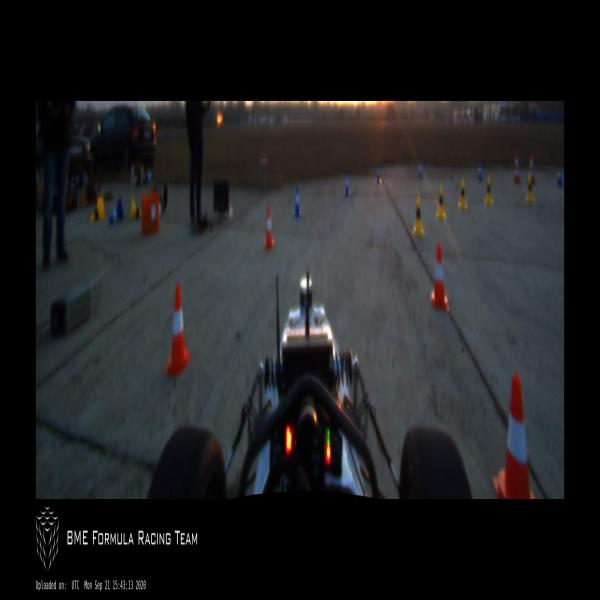blue_cone: (108, 196, 124, 224), (294, 186, 301, 216), (345, 173, 350, 196), (418, 160, 423, 179), (558, 166, 562, 188), (478, 162, 482, 182), (376, 164, 380, 183)
large_orange_cone: (514, 152, 520, 183), (530, 155, 534, 184)
orange_cone: (492, 372, 535, 498), (164, 284, 192, 374), (431, 242, 449, 312), (264, 207, 274, 248)
yellow_cone: (413, 197, 425, 234), (90, 196, 105, 219), (437, 184, 446, 219), (129, 195, 142, 218), (484, 176, 493, 206), (459, 180, 467, 211), (526, 175, 534, 202)
